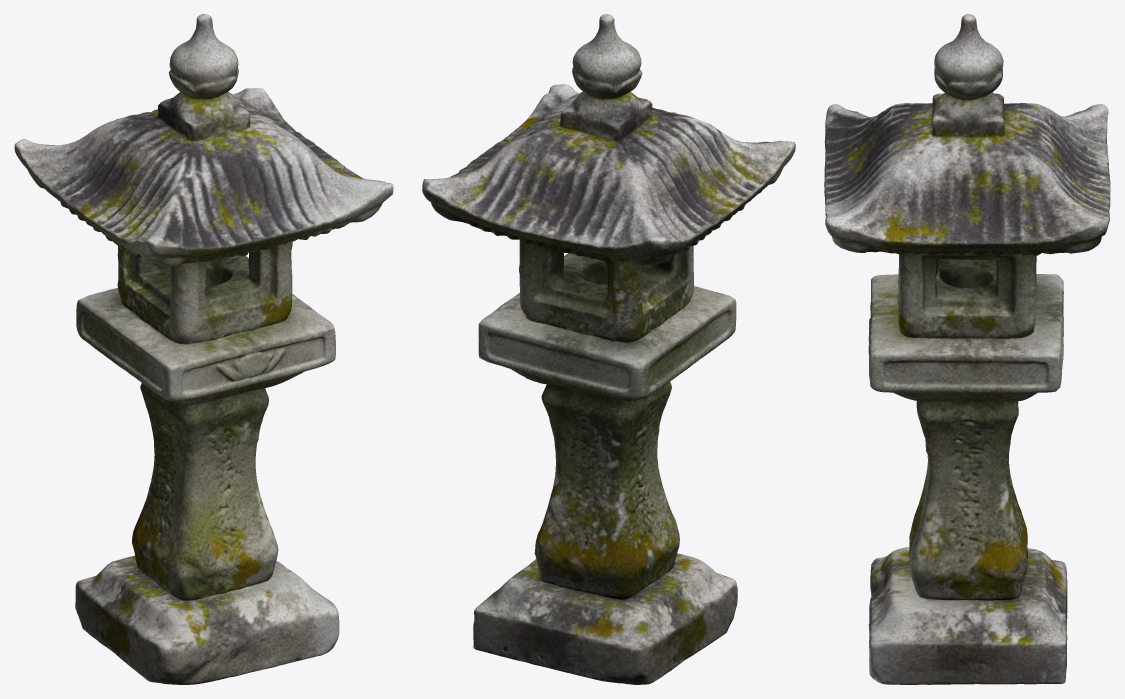
The model's file is lantern.0.glb.
The picture shows the model from 3 angles, left to right: view 1: azimuth 30°, elevation 25°; view 2: azimuth 150°, elevation 25°; view 3: azimuth 270°, elevation 25°; orthographic projection.
Visible parts, largest first — view 1: geometry_0; view 2: geometry_0; view 3: geometry_0.
Boxes of the visible parts, x1=… form: geometry_0: x1=14, y1=14, x2=393, y2=684; geometry_0: x1=422, y1=14, x2=795, y2=684; geometry_0: x1=824, y1=14, x2=1110, y2=684.
Bounding box in the file's own units: 0.4155 × 1 × 0.4148.
Materials: 1 (1 with a texture image).
